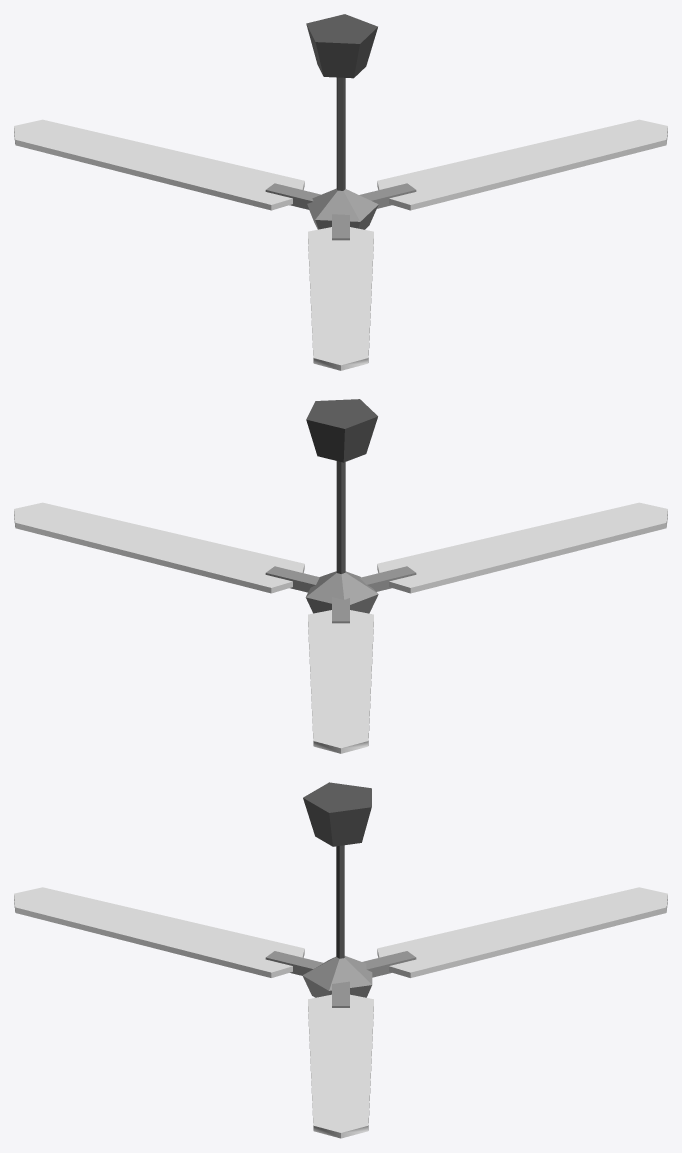
The model's file is lamp_018.glb.
3 views of the same model, one above another, from view 1: azimuth 30°, elevation 25°; view 2: azimuth 150°, elevation 25°; view 3: azimuth 270°, elevation 25° (orthographic).
Visible parts, largest first — view 1: lamp_018; view 2: lamp_018; view 3: lamp_018.
Part boxes in pixels (x1=…): lamp_018: x1=14, y1=14, x2=667, y2=370; lamp_018: x1=14, y1=399, x2=667, y2=753; lamp_018: x1=14, y1=782, x2=667, y2=1138.
Bounding box in the file's own units: 0.9179 × 0.3448 × 1.03.
1 material, 1 textured.
